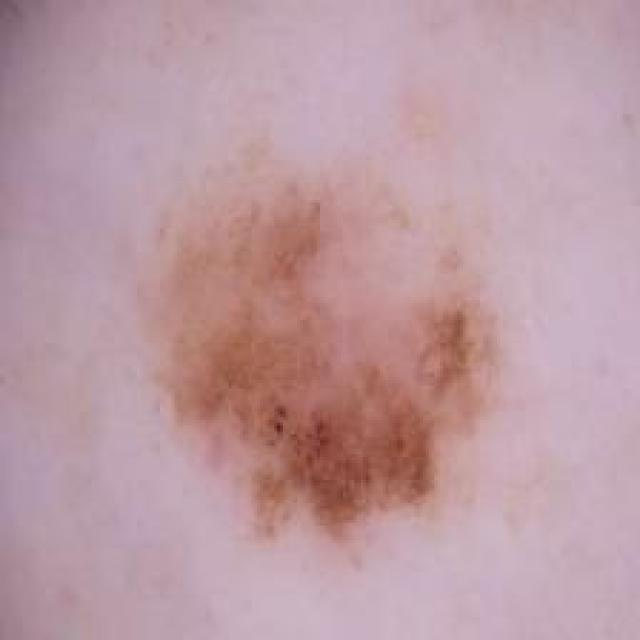Cancer: (134, 111, 503, 560)
